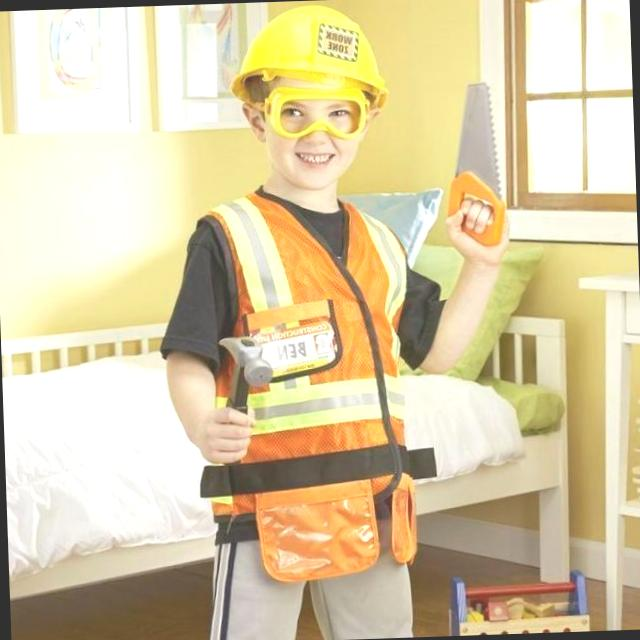vest: (199, 191, 420, 582)
